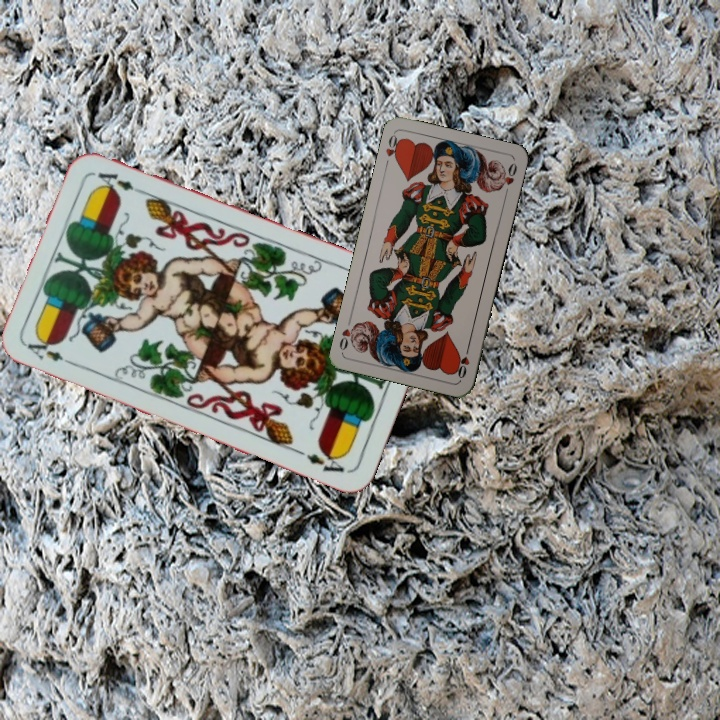EA: (23, 335, 79, 369)
HO: (381, 130, 404, 170), (452, 342, 472, 381)
